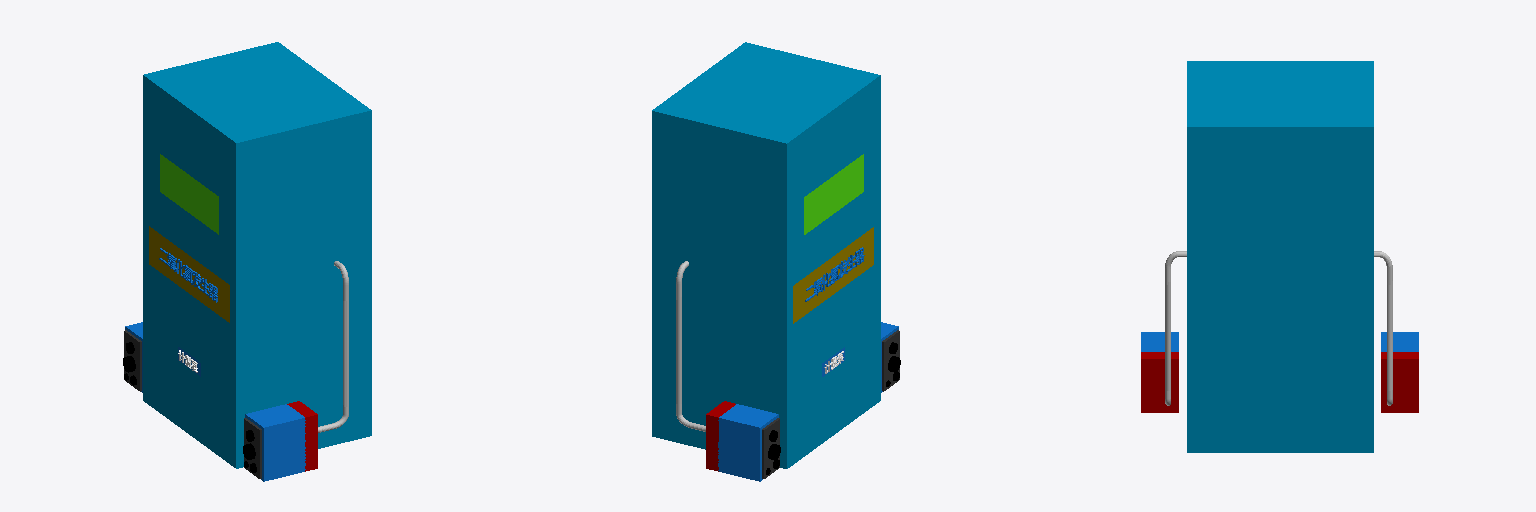
The model's file is co2_generator.obj.
3 views of the same model, side by side, from view 1: azimuth 30°, elevation 25°; view 2: azimuth 150°, elevation 25°; view 3: azimuth 270°, elevation 25° (orthographic).
Visible parts, largest first — view 1: ___.5, ___.2, ___.14, ___, __.1, ___.3, __, ___.1, ___.13; view 2: ___.5, ___.9, ___.14, ___, ___.8, __.16, ___.1, __, ___.13; view 3: ___.5, ___.8, ___.3, __.1, ___.9, ___.2, __.16.
Part boxes in pixels (x1,y1,x2,y2): ___.5: (143,42,371,468); ___.2: (245,404,305,481); ___.14: (149,226,229,322); ___: (160,154,218,234); __.1: (126,301,348,432); ___.3: (287,401,317,471); __: (123,248,348,432); ___.1: (244,418,261,478); ___.13: (124,330,141,391); ___.5: (652,42,880,468); ___.9: (718,404,778,481); ___.14: (793,227,873,323); ___: (804,154,863,234); ___.8: (706,401,735,471); __.16: (676,297,681,403); ___.1: (882,330,899,391); __: (768,247,863,460); ___.13: (762,418,779,478); ___.5: (1187,61,1373,452); ___.8: (1381,352,1418,412); ___.3: (1141,352,1178,412); __.1: (1165,282,1170,405); ___.9: (1381,332,1418,351); ___.2: (1141,332,1178,351); __.16: (1387,281,1392,390).
Size of the model in its own units: 522 by 1175 by 906.